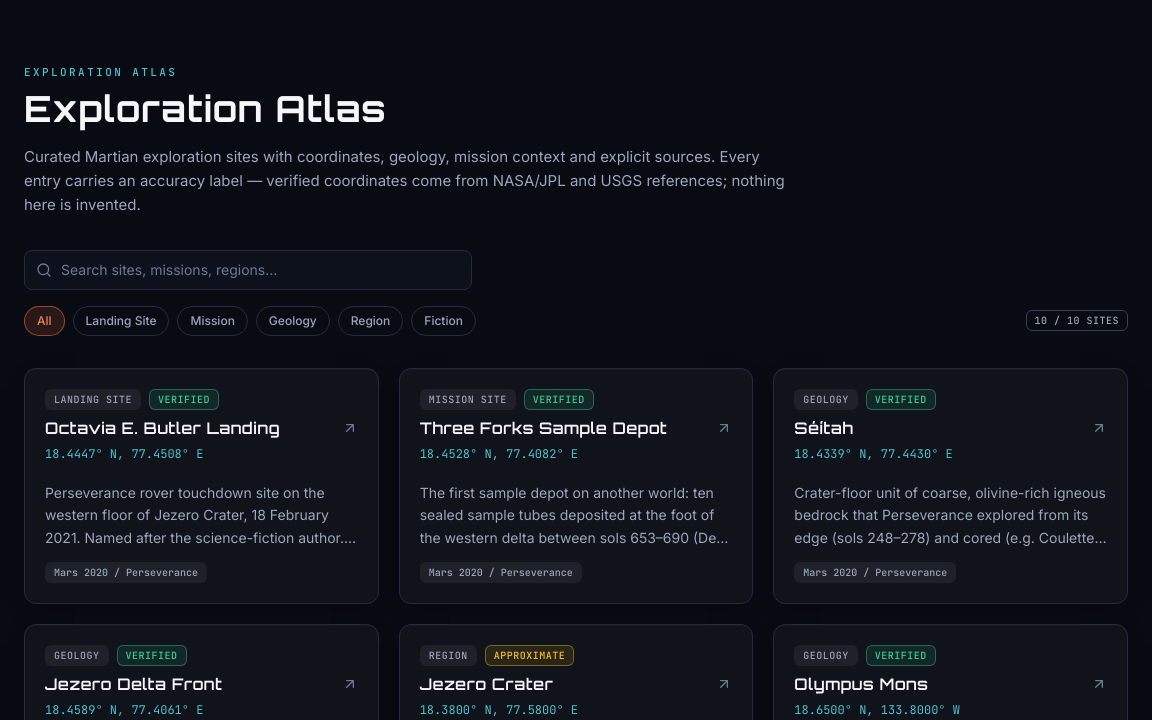
Test: AtlasPage (Module D) › shows the empty state for unmatched queries
In the search field named "Search points of interest": [248, 270] box [24, 250, 472, 290], type "xyzzy-not-a-place"
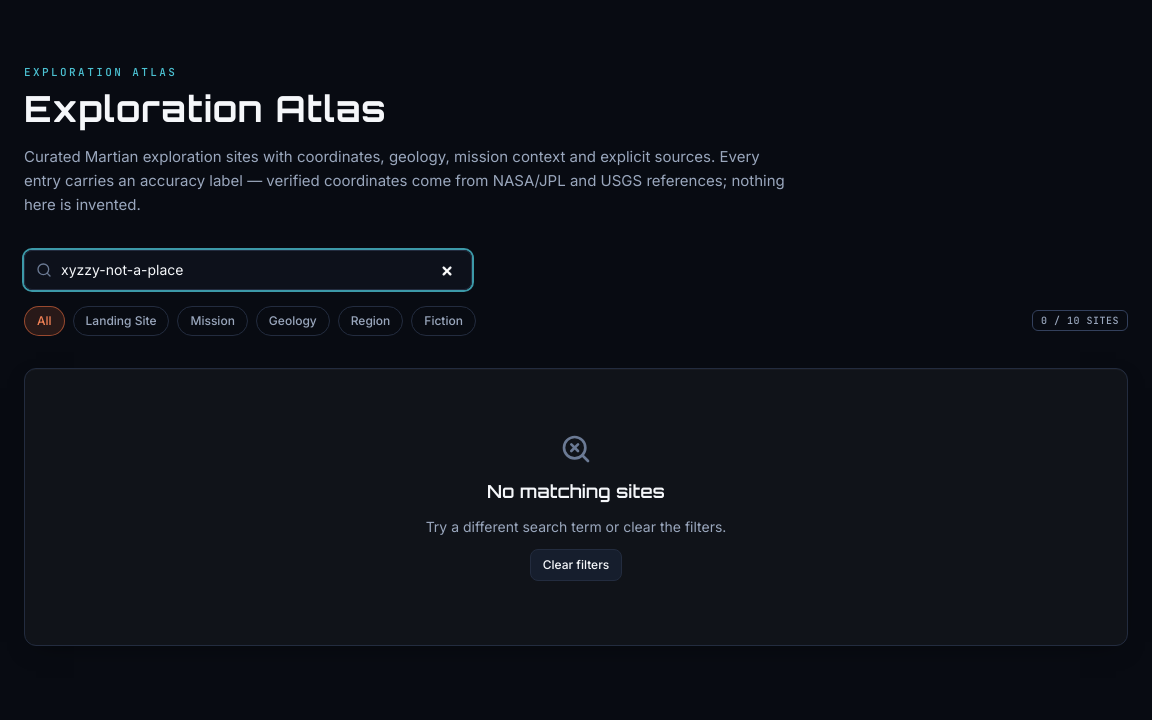
Now the text "No matching sites" is shown, box [487, 477, 665, 505]
